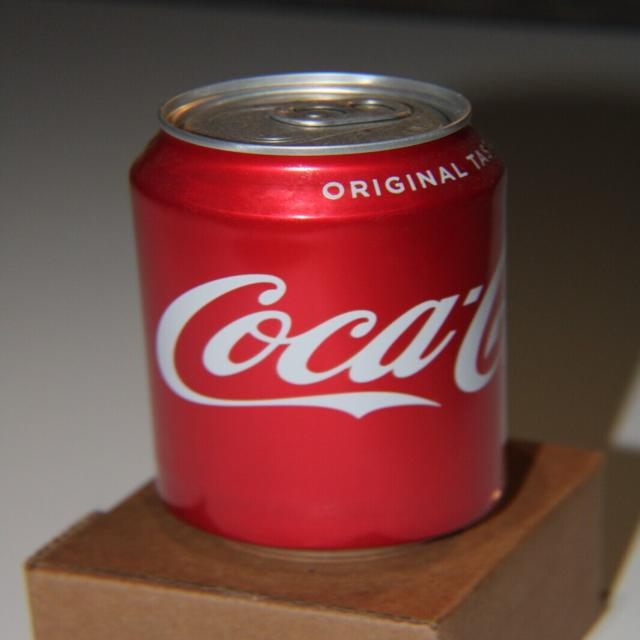can: (123, 68, 515, 556)
